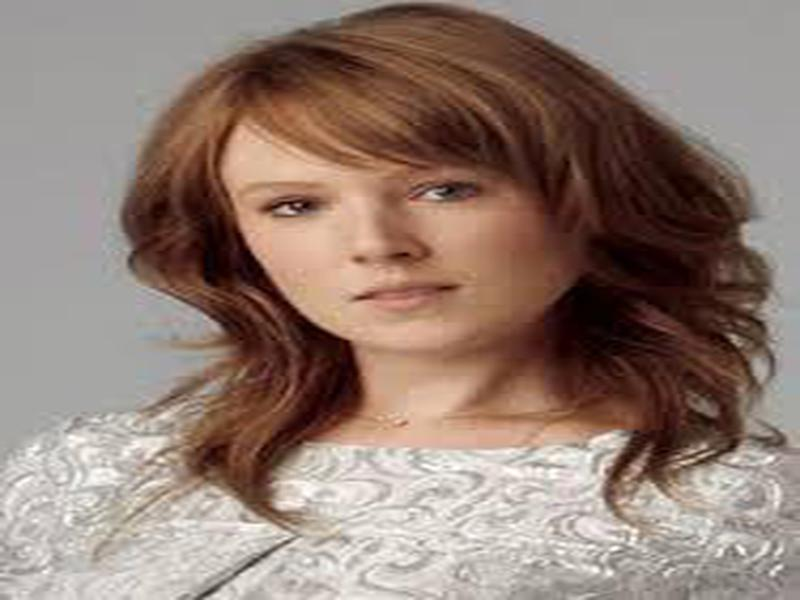without_mask: (214, 145, 564, 358)
